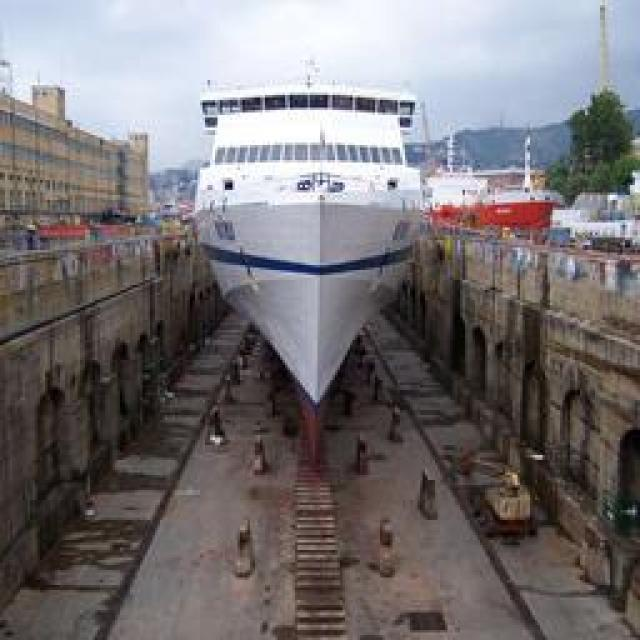CIV_Ship: (188, 75, 434, 408)
